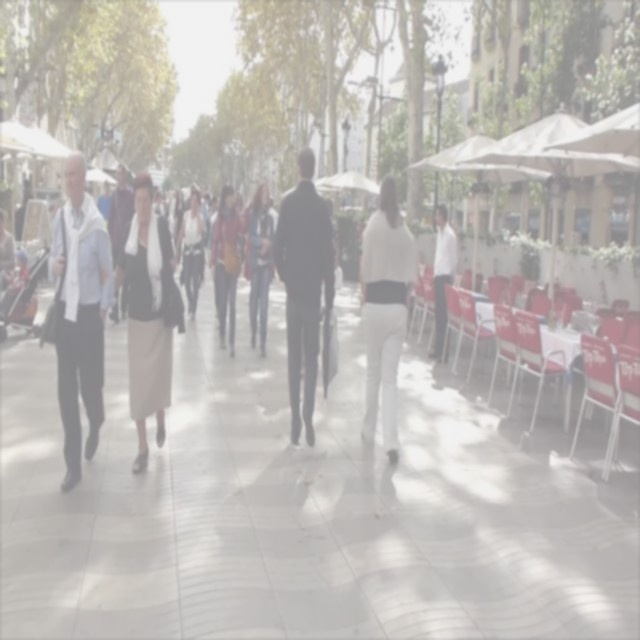pessoa: (45, 150, 118, 494), (98, 172, 178, 476), (270, 144, 342, 450), (356, 170, 419, 468), (230, 444, 404, 550), (210, 182, 252, 360), (426, 201, 459, 368), (106, 163, 136, 325), (248, 184, 275, 358), (174, 186, 204, 323), (0, 245, 31, 328), (198, 185, 222, 258), (0, 206, 17, 288), (152, 184, 178, 232), (429, 358, 459, 395), (172, 189, 185, 267), (326, 198, 338, 281), (235, 190, 248, 266), (96, 178, 112, 220), (19, 176, 33, 222), (268, 193, 279, 237), (182, 182, 195, 214), (299, 323, 306, 380), (200, 192, 213, 221), (84, 184, 95, 200), (269, 262, 276, 283)
